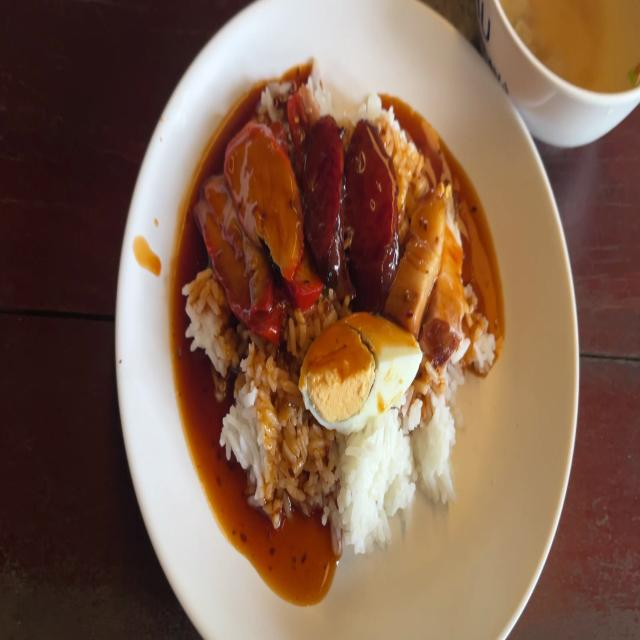01boiled_egg: (304, 319, 421, 420)
01chainese_sausage: (346, 127, 391, 300), (308, 108, 342, 276)
01crispy_pork: (392, 185, 447, 327), (430, 202, 469, 336)
01red_pork: (205, 184, 282, 334), (229, 123, 301, 278)
01red_pork_and_crispy_pork: (190, 57, 495, 551)
01rice: (300, 422, 458, 548), (228, 348, 301, 511), (189, 273, 226, 359)
